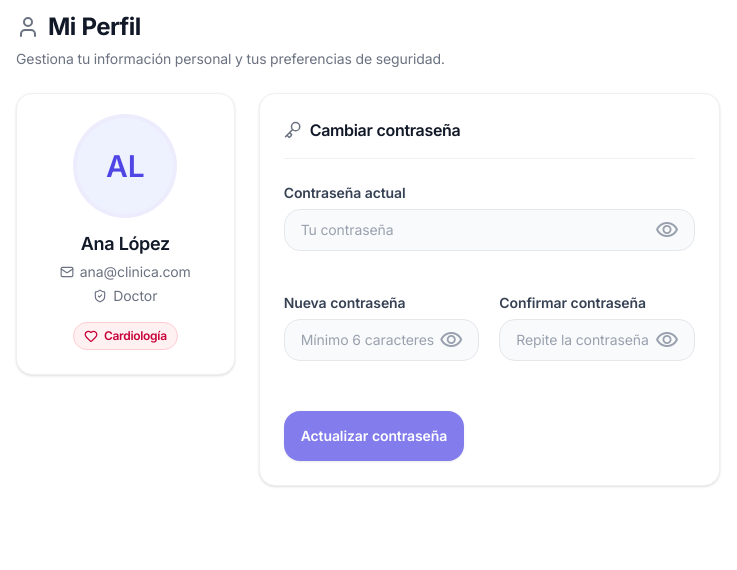
Test: ProfilePage › shows an error when the new password is shorter than 6 characters
Type "actual123" into the password field labelled "Contraseña actual" at (489, 230), box [284, 209, 695, 251]
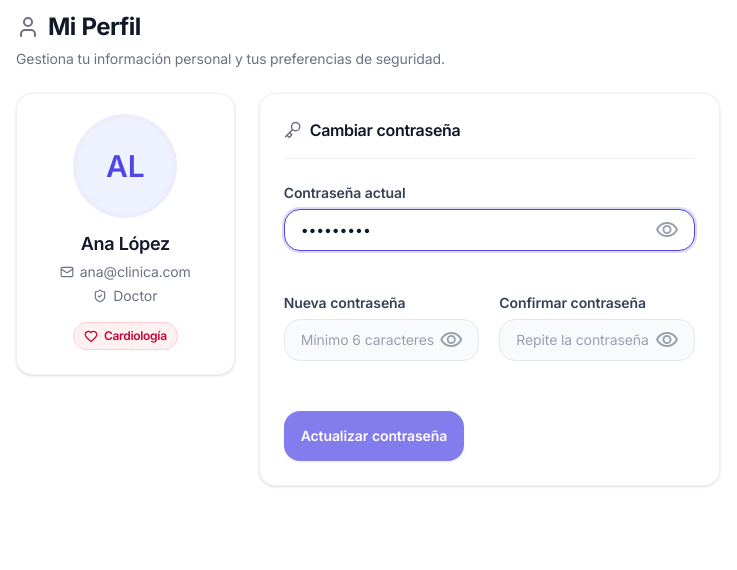
Type "abc" into the password field labelled "Nueva contraseña" at (382, 340), box [284, 319, 479, 361]
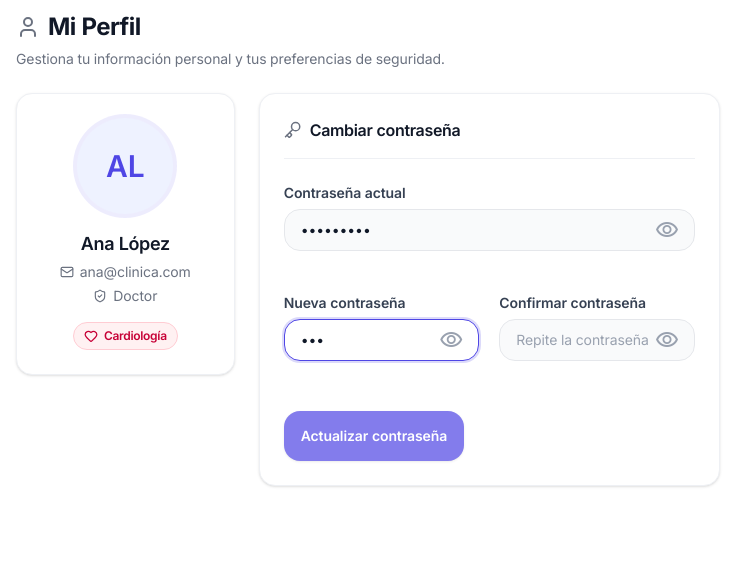
Type "abc" into the password field labelled "Confirmar contraseña" at (597, 340), box [499, 319, 695, 361]
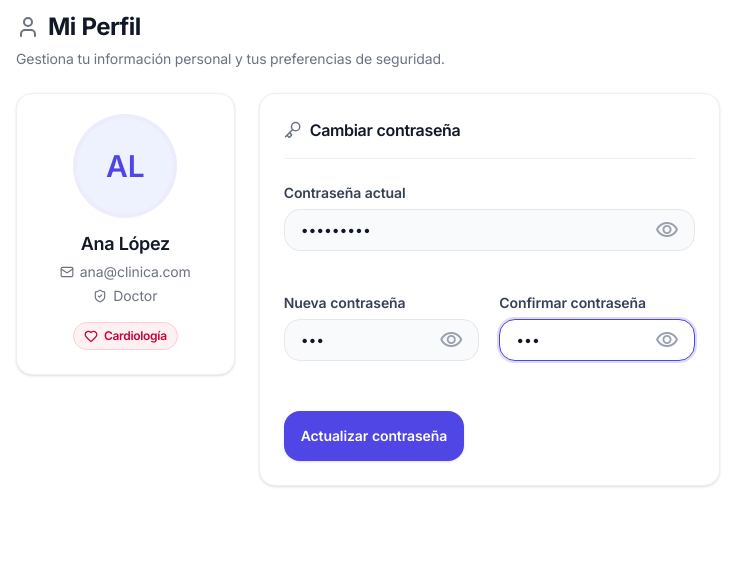
Click the button "Actualizar contraseña" at (374, 436), box [284, 411, 464, 461]
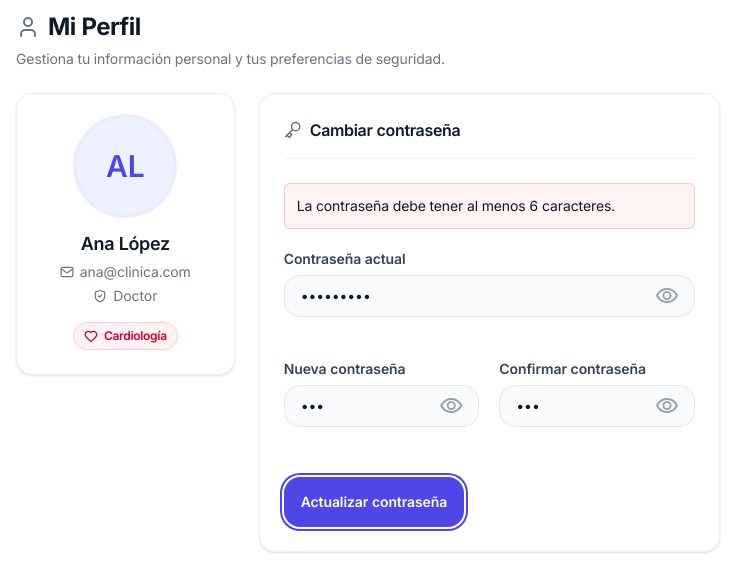
Now the text "La contraseña debe tener al menos 6 caracteres." is shown, box [297, 197, 615, 214]
